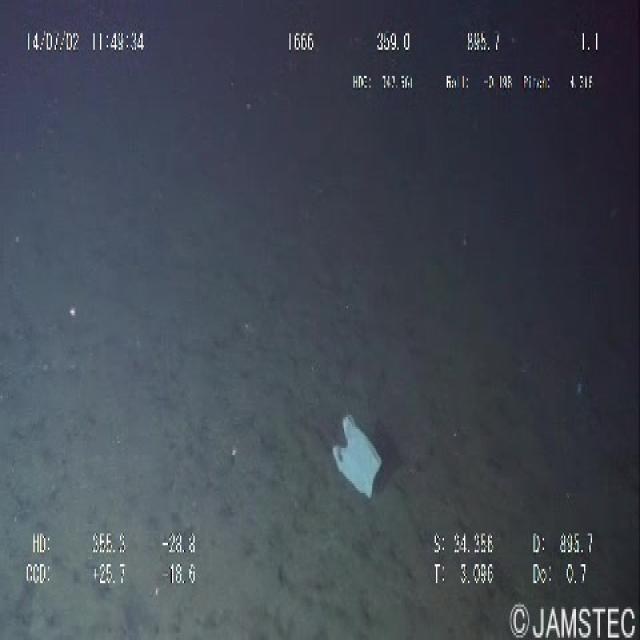plastic: (325, 396, 384, 510)
